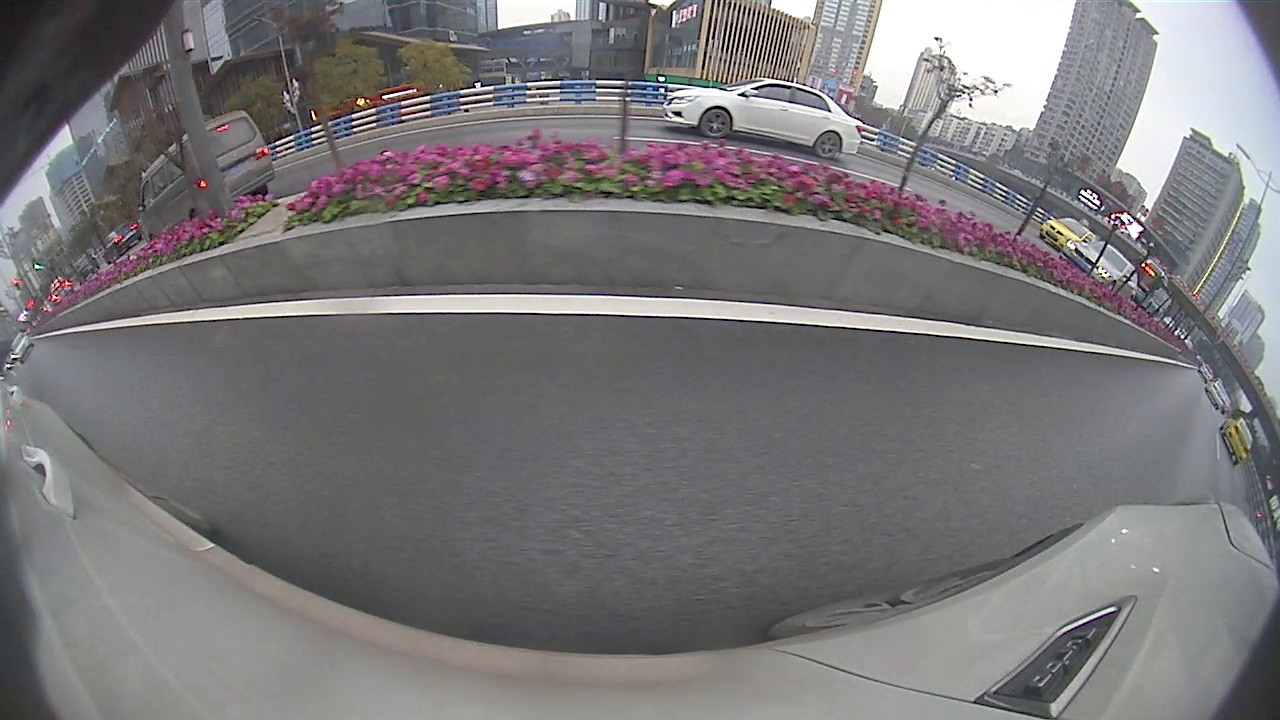car: (660, 79, 866, 158), (1218, 415, 1254, 466)
front: (698, 106, 733, 140)
rear: (814, 130, 843, 160)
